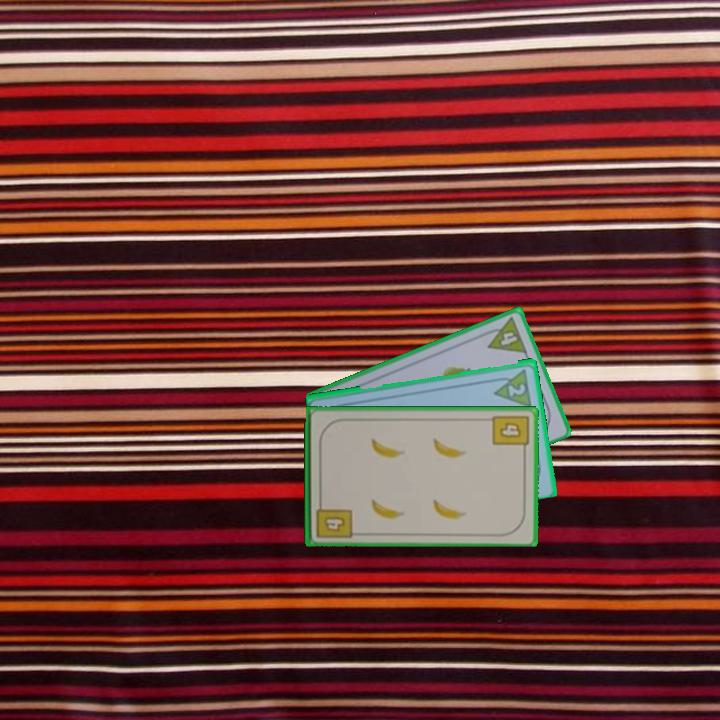2p: (505, 379, 529, 399)
4b: (312, 496, 354, 541), (489, 411, 531, 455)
4p: (479, 313, 530, 356)
